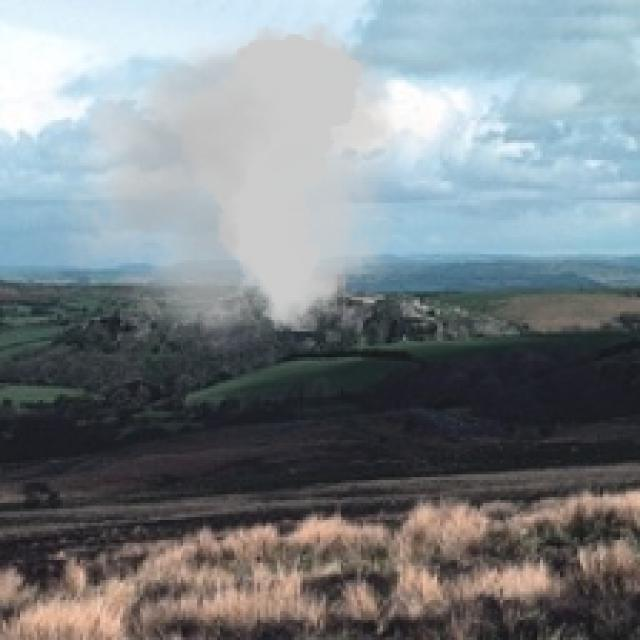Smoke: (43, 12, 426, 354)
